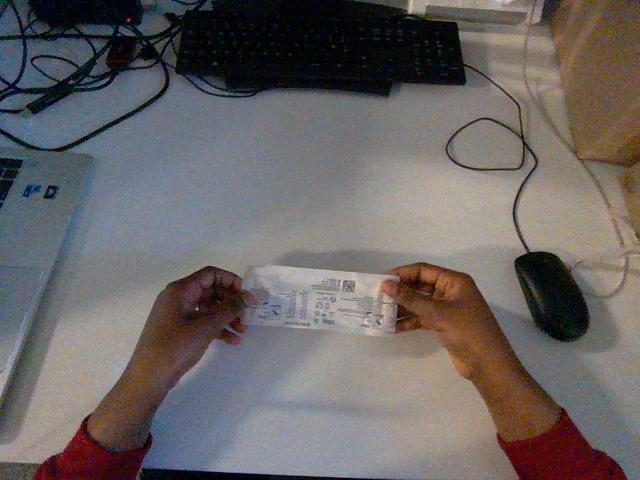syringe: (243, 266, 398, 335)
